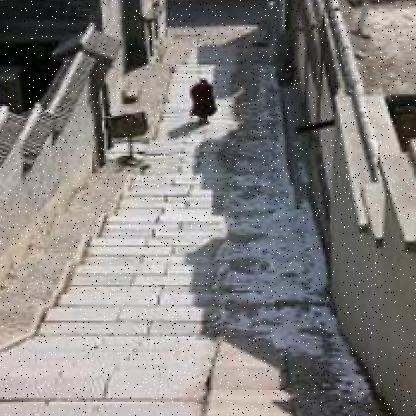stair_down: (43, 191, 330, 367)
